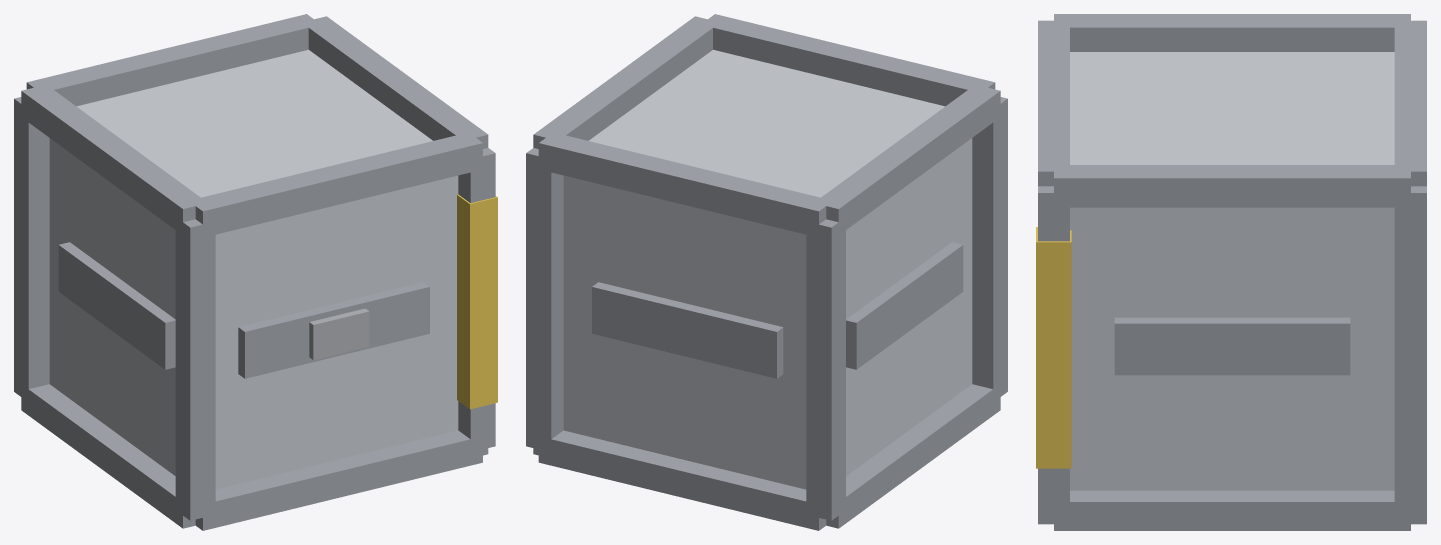
File: prop_crate.glb
3 renders of one model, left to right at view 1: azimuth 30°, elevation 25°; view 2: azimuth 150°, elevation 25°; view 3: azimuth 270°, elevation 25°, orthographic. The views are drawn at different scales.
Parts seen in each view (by area): view 1: prop_crate; view 2: prop_crate; view 3: prop_crate.
Part boxes in pixels (x1,y1,x2,y2): prop_crate: (14,14,497,530); prop_crate: (526,14,1007,530); prop_crate: (1036,14,1426,530).
Bounding box in the file's own units: 0.5694 × 0.5668 × 0.5694.
